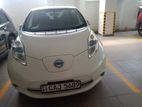car: (6, 5, 113, 101)
